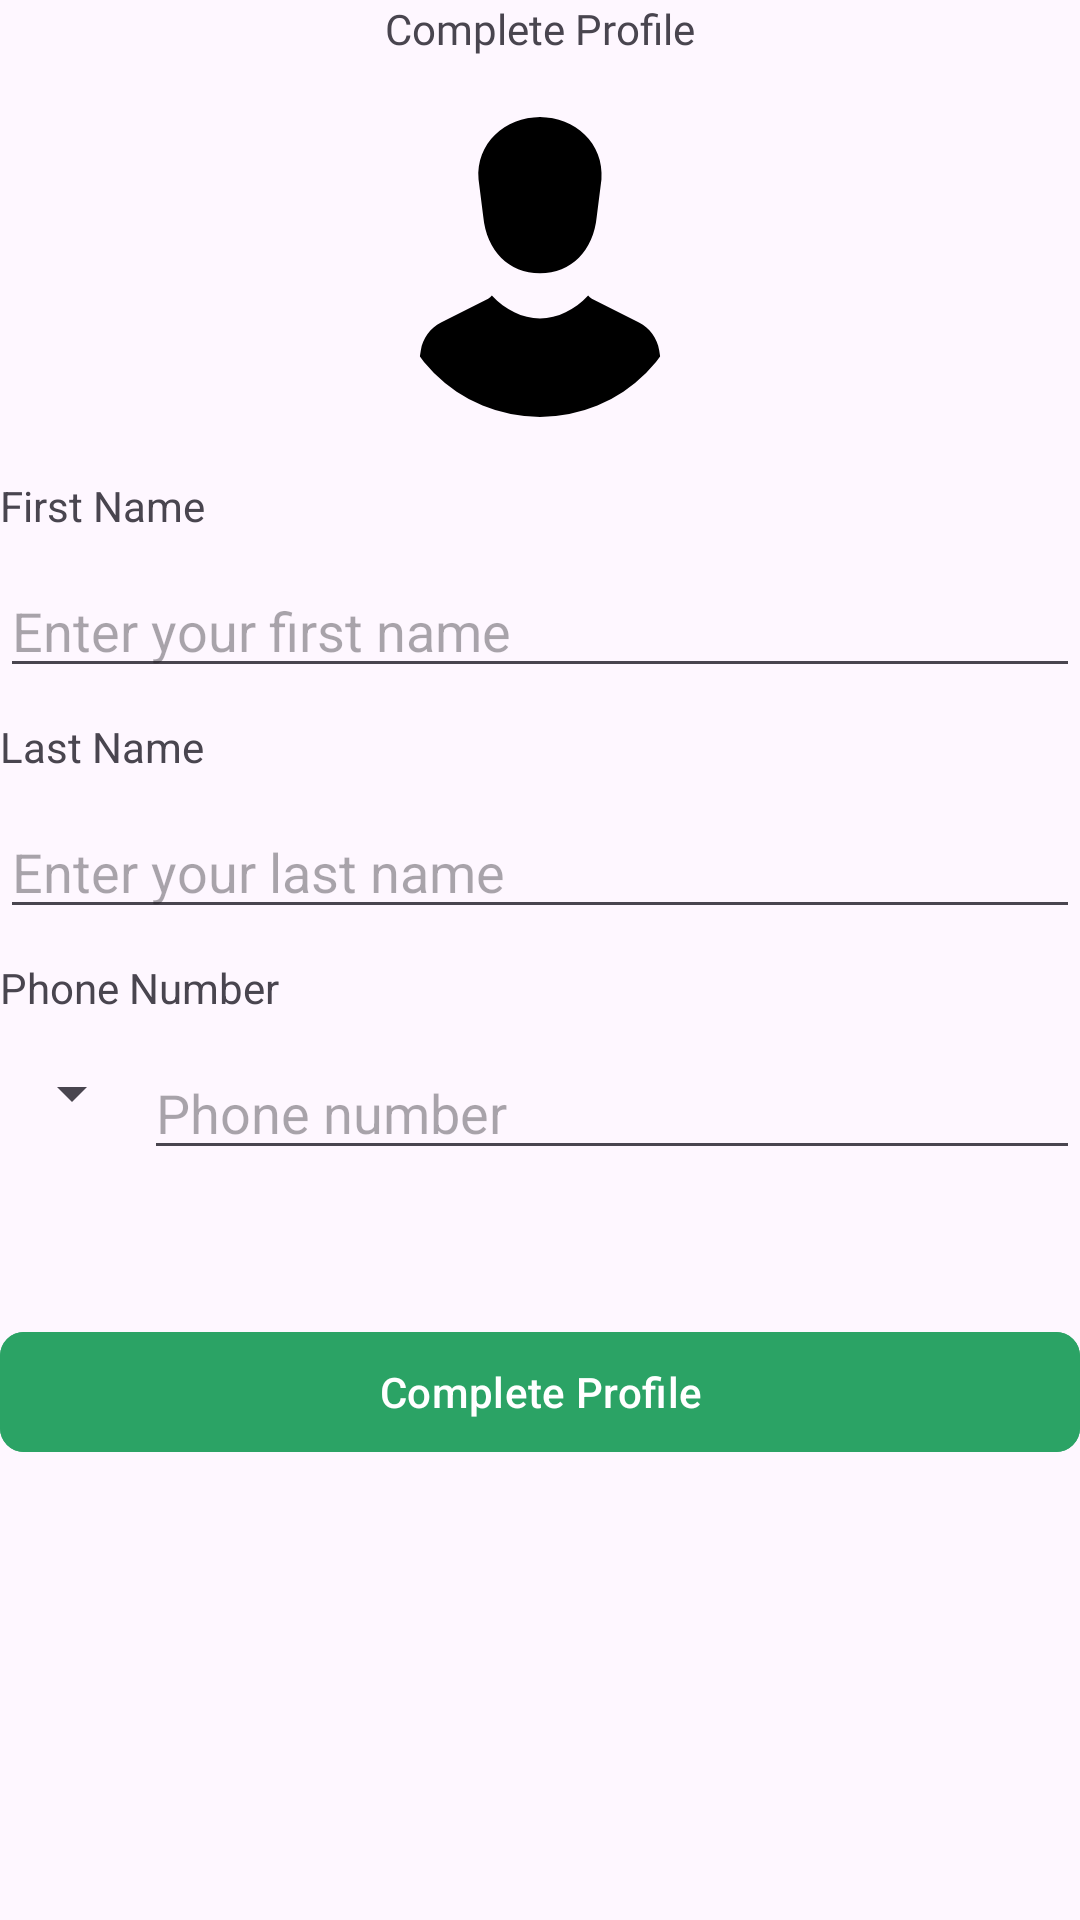

Where to tap for icons on this 1080px x 1920px app screen, as (x=x, y=y):
person: (x=540, y=267)
